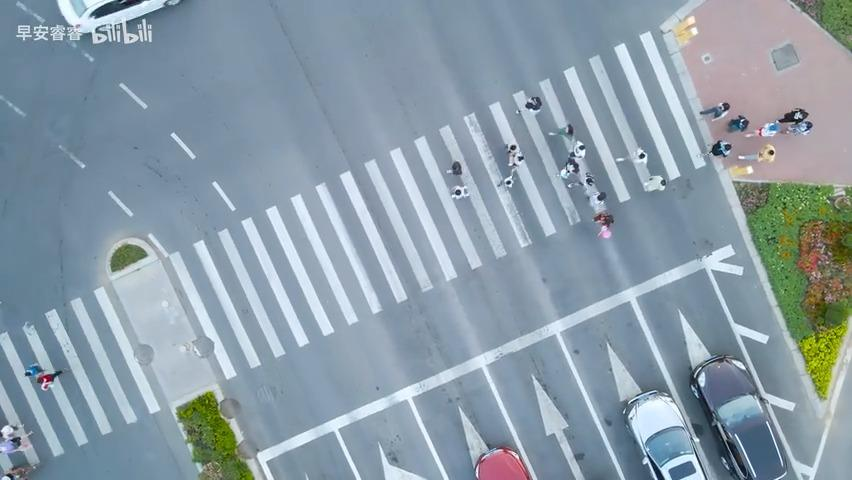Civilian: (698, 101, 730, 121), (35, 369, 63, 391), (615, 145, 647, 164), (745, 120, 779, 137), (592, 211, 614, 237), (776, 107, 809, 123), (0, 423, 21, 447), (566, 171, 595, 188), (707, 139, 731, 157), (786, 119, 812, 135), (548, 123, 574, 139), (505, 143, 523, 166), (643, 175, 666, 192), (1, 465, 28, 479), (727, 114, 749, 131), (757, 143, 775, 163), (450, 184, 469, 199), (586, 191, 606, 205), (524, 95, 541, 111), (571, 140, 586, 158), (564, 156, 579, 174), (633, 145, 647, 164), (24, 363, 44, 376), (446, 160, 462, 175), (584, 171, 595, 186), (503, 175, 514, 189), (565, 123, 573, 135)
